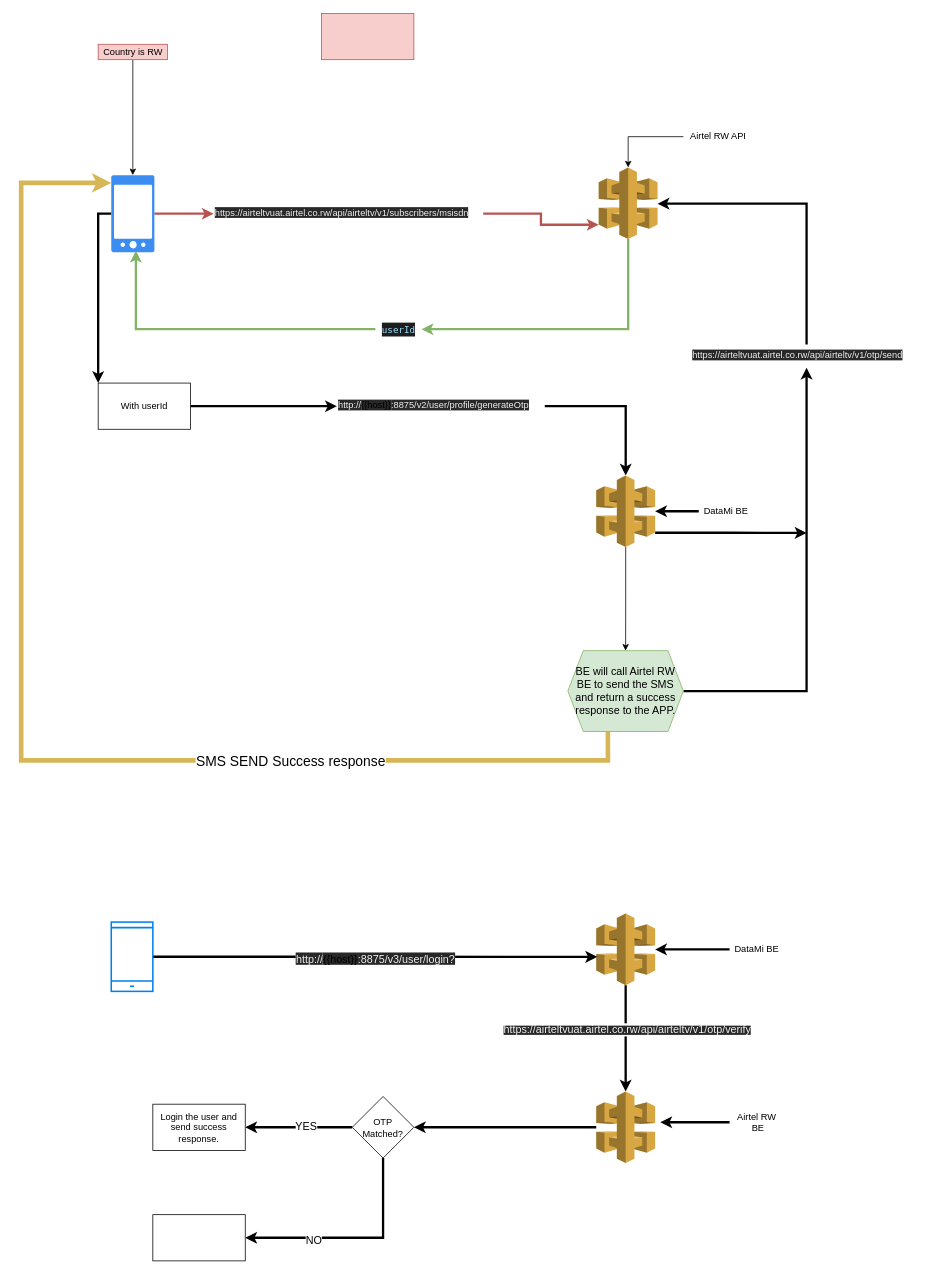
The diagram is 935 pixels wide and 1274 high, and some of its shapes have lost their labels. Each missing label, with the centre of its shape:
"Login the user with a grace." goes at point (198, 1237).
"RW FLOW" goes at point (367, 36).
